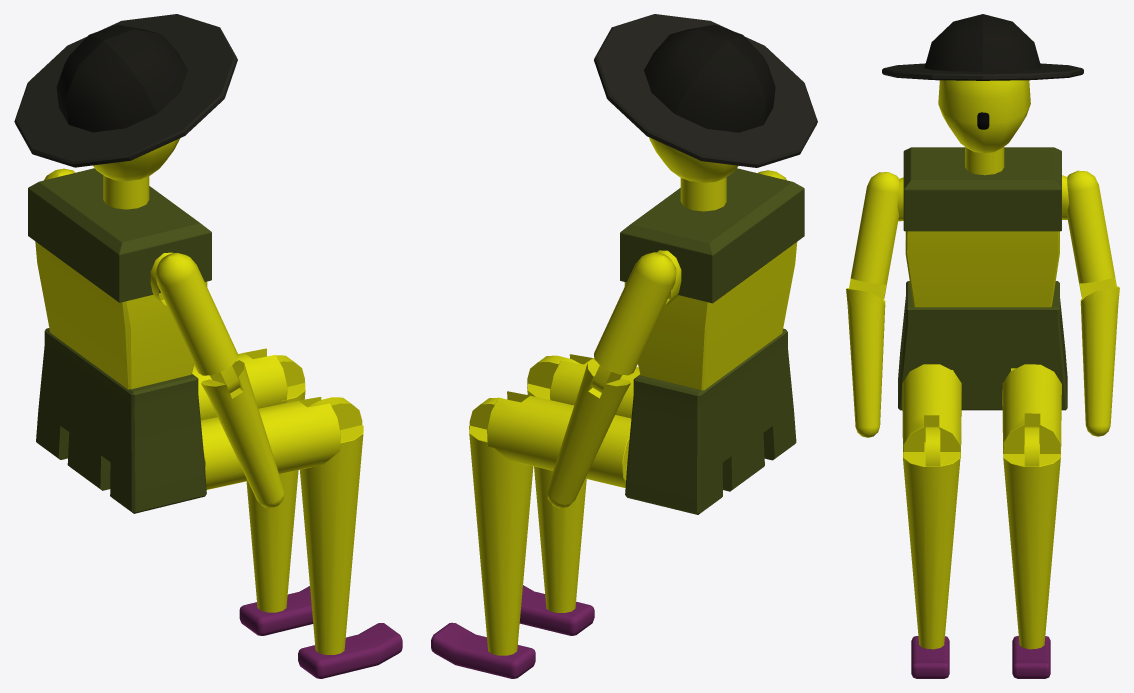
File: SM_Dinette_Puppet.fbx
3 views of the same model, side by side, from view 1: azimuth 30°, elevation 25°; view 2: azimuth 150°, elevation 25°; view 3: azimuth 270°, elevation 25° (orthographic). The views are drawn at different scales.
Parts seen in each view (by area): view 1: Puppet; view 2: Puppet; view 3: Puppet.
Boxes of the visible parts, box(x1,y1,x2,y2) form: Puppet: box(14, 14, 402, 678); Puppet: box(431, 14, 817, 678); Puppet: box(846, 14, 1119, 678).
Bounding box in the file's own units: 14.94 × 28.23 × 12.36.
